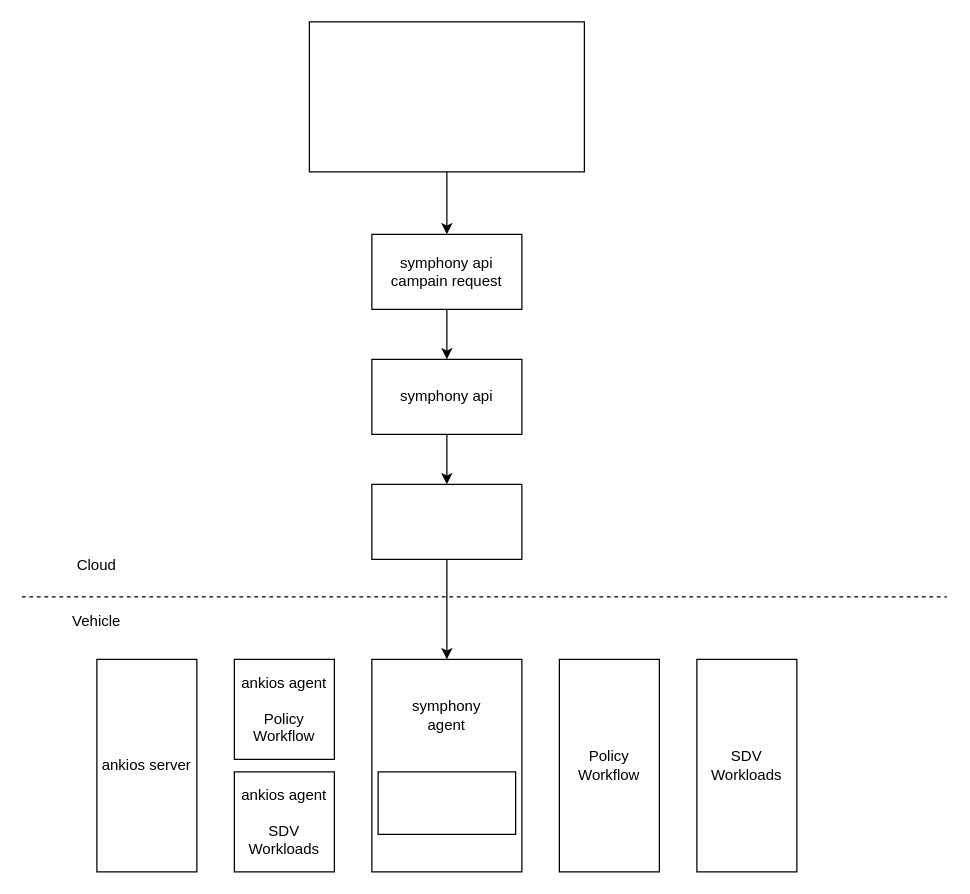
Some shapes in this 970 by 894 pixel diagram are drawn without their labels. Here are the shapes that lost their labels. From the top down, the centre of each, then its label:
point 446,96: Management Platform Fleet version control
point 446,521: mqtt broker
point 446,802: ankios provider
